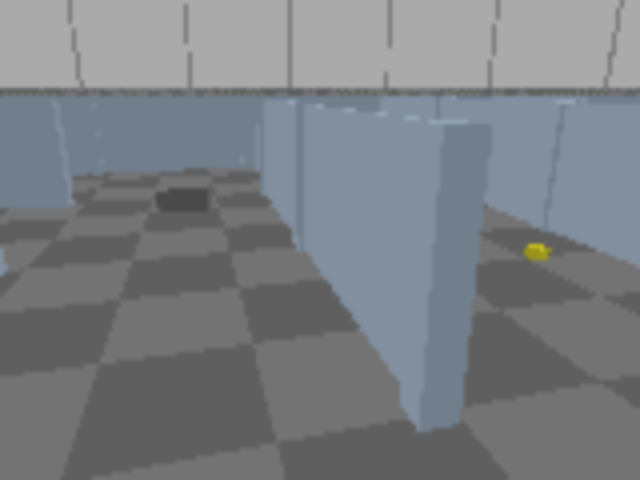obstacle: (156, 183, 212, 212)
puck: (525, 243, 551, 262)
